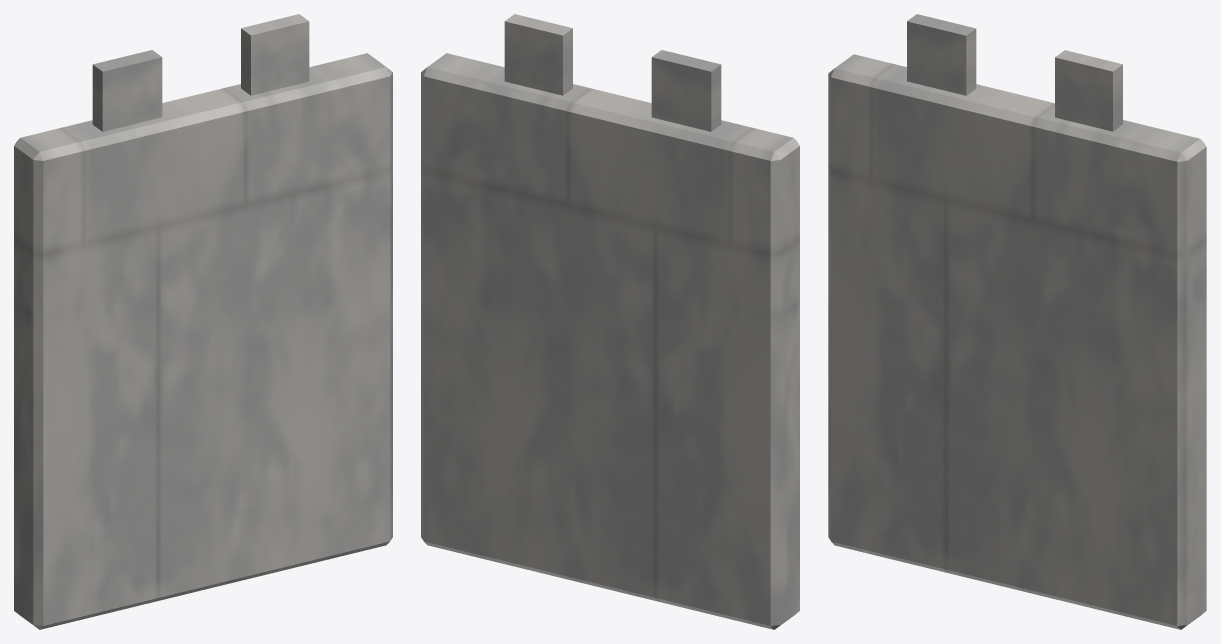
The model's file is Door_v02.fbx.
The picture shows the model from 3 angles, left to right: view 1: azimuth 30°, elevation 25°; view 2: azimuth 150°, elevation 25°; view 3: azimuth 330°, elevation 25°; orthographic projection.
Parts seen in each view (by area): view 1: Door_Size_02; view 2: Door_Size_02; view 3: Door_Size_02.
Boxes of the visible parts, x1,y1,x2,y2 form: Door_Size_02: (14,14,392,629); Door_Size_02: (421,14,799,629); Door_Size_02: (828,14,1206,629).
Size of the model in its own units: 18.13 by 25.94 by 2.31.
